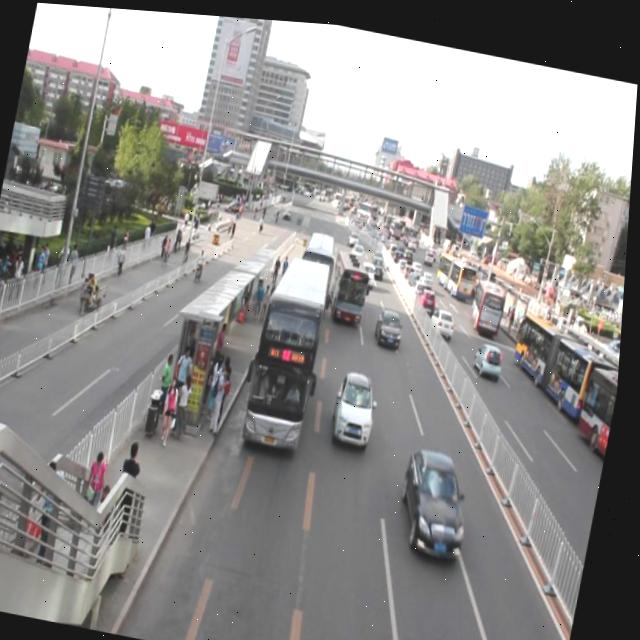car: (394, 440, 486, 560), (329, 360, 389, 449), (374, 297, 413, 348), (369, 242, 390, 274), (359, 253, 381, 283)
van: (237, 241, 344, 457), (290, 219, 346, 322), (323, 239, 378, 324)
